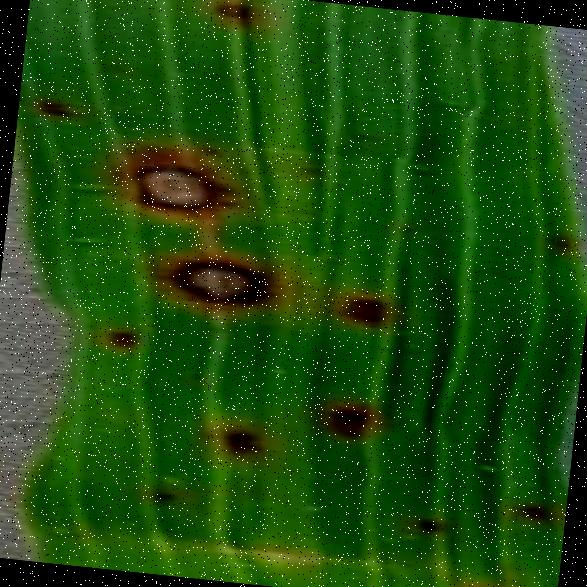Brown_Spot: (130, 224, 296, 340), (100, 127, 256, 232), (307, 386, 389, 451), (327, 274, 397, 341), (210, 417, 270, 464), (98, 313, 145, 358), (201, 0, 265, 32), (30, 89, 88, 124), (508, 491, 554, 524), (406, 506, 452, 538), (542, 221, 580, 256), (349, 121, 388, 150), (138, 480, 177, 507), (192, 136, 229, 160), (290, 154, 324, 180), (456, 574, 523, 587), (398, 218, 419, 237)
